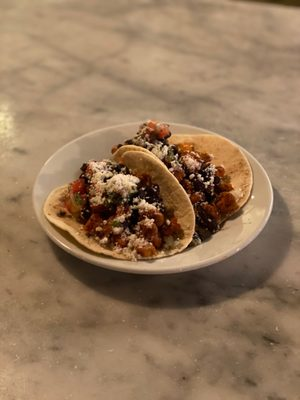sushi: (40, 117, 274, 276)
